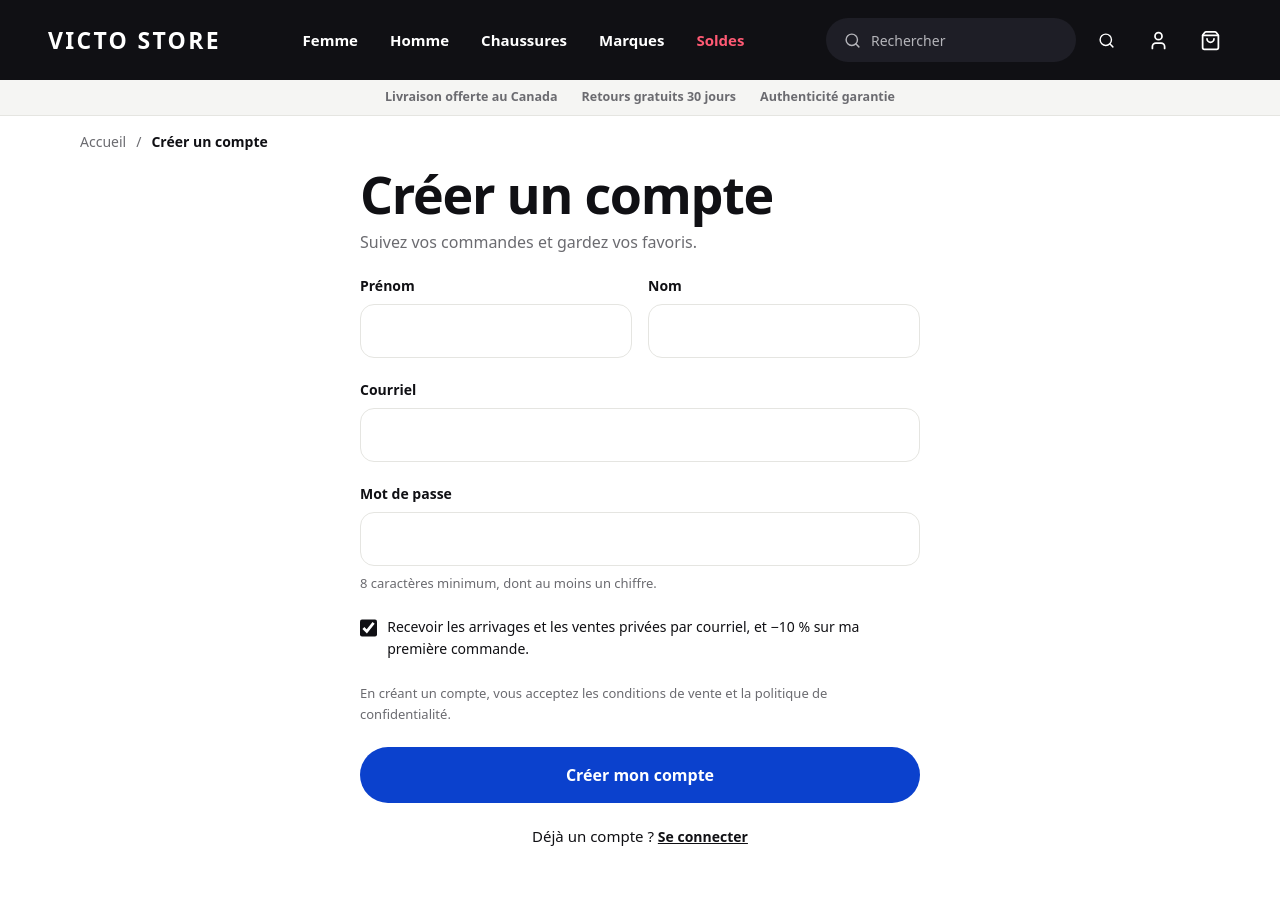
Test: page d’inscription › signale chaque champ fautif, sans inscrire
Click the button "Créer mon compte". click: point(640, 775)
box: [360,747,920,803]
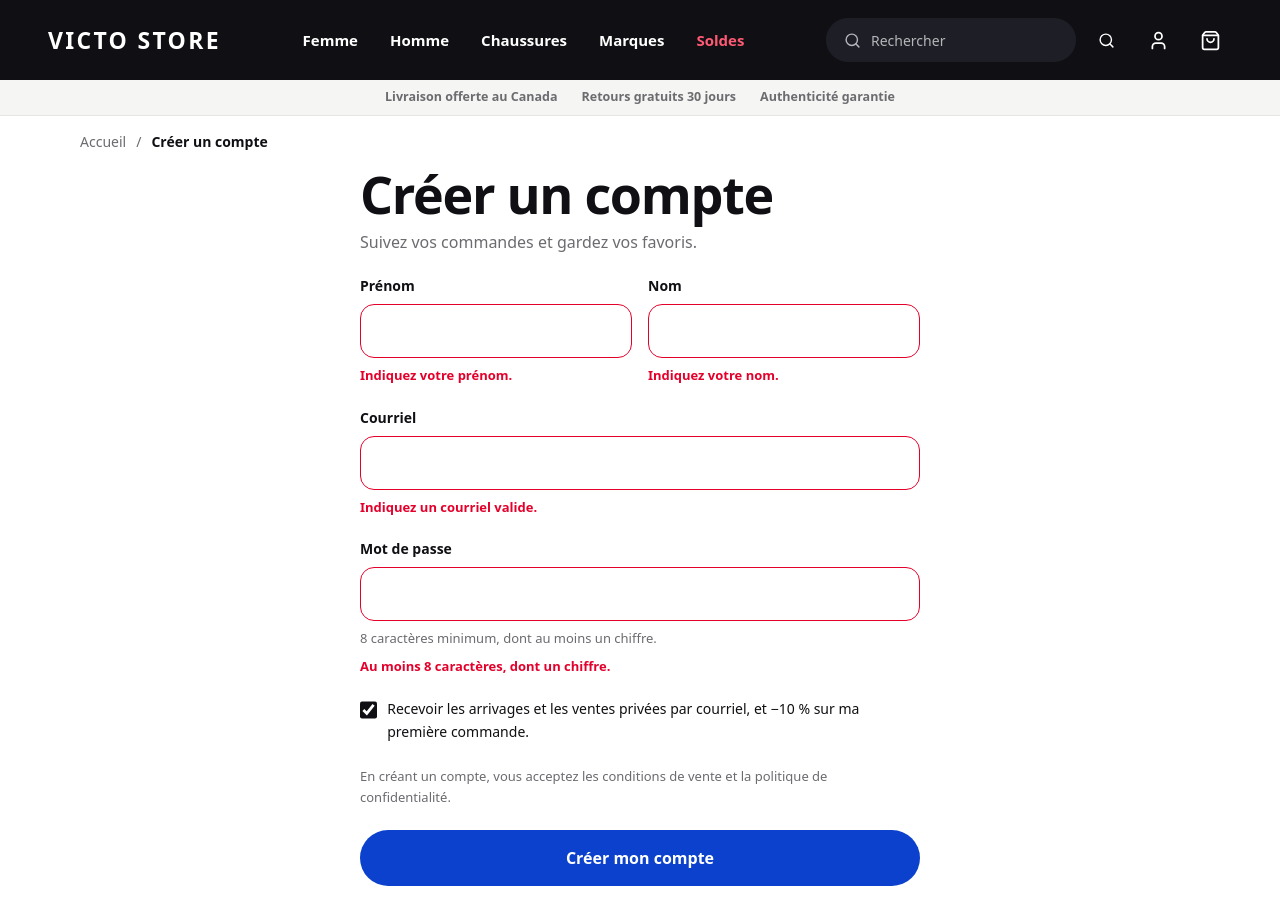
expect the text "Indiquez votre prénom." is shown: met, box [360,366,512,384]
expect the text "Indiquez un courriel valide." is shown: met, box [360,498,537,516]
